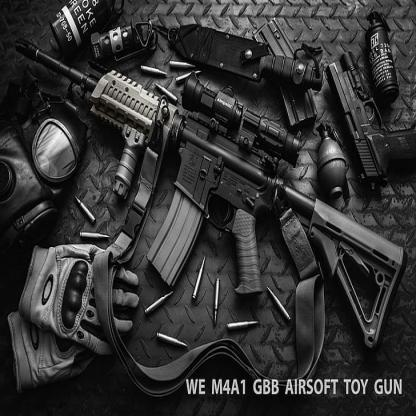Grenade: (49, 0, 129, 60), (90, 13, 158, 70), (364, 6, 401, 106), (318, 125, 348, 199)
Gun: (14, 34, 408, 354)
Knife: (166, 21, 325, 94)
Pistol: (324, 49, 416, 198)
